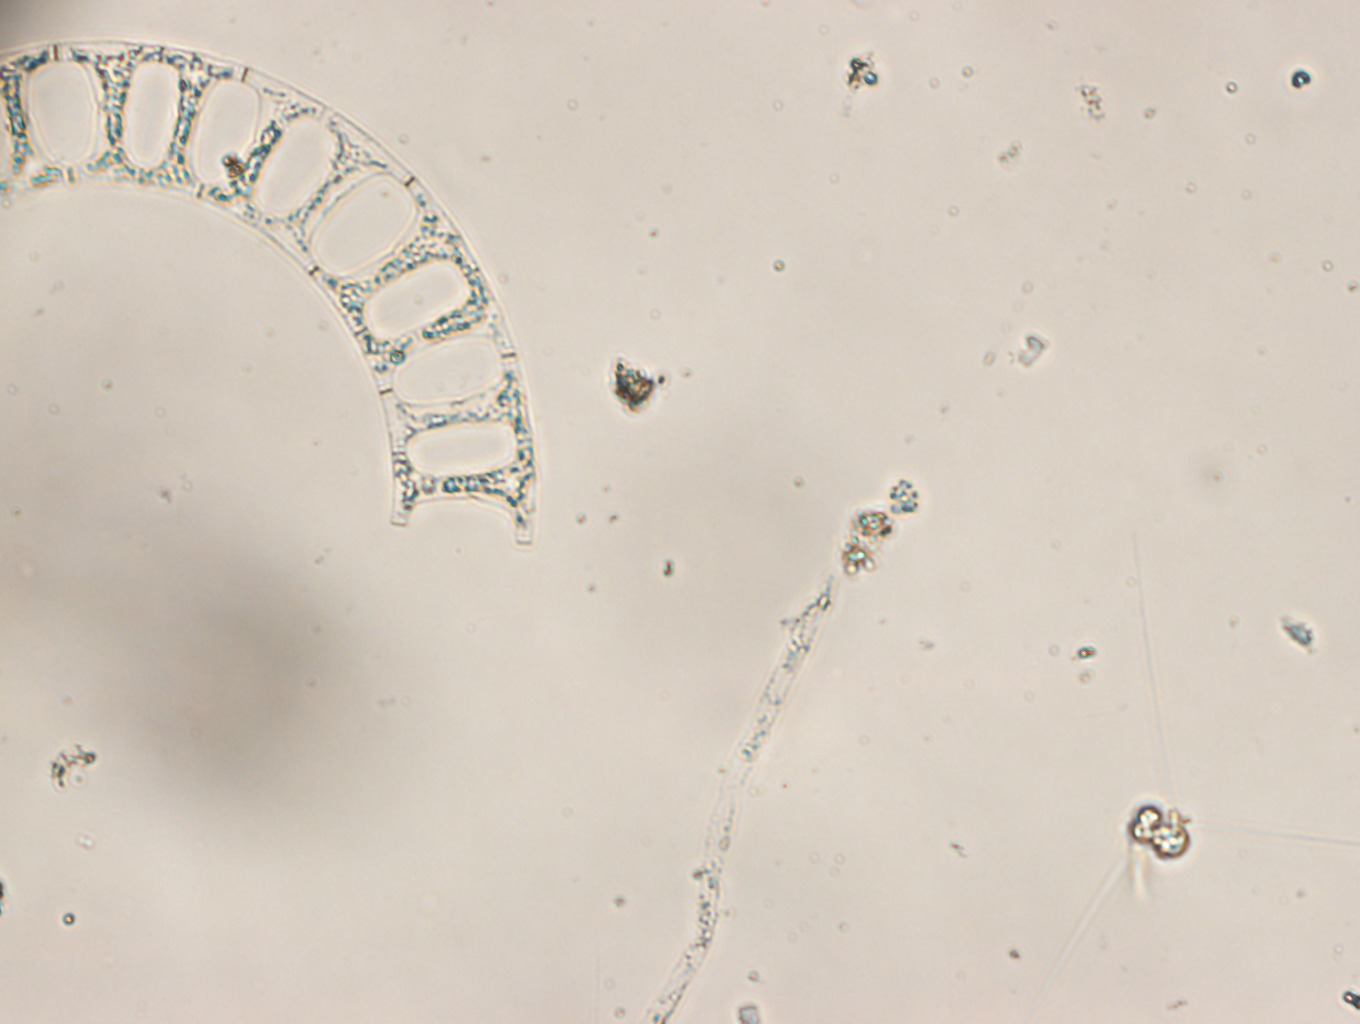eucampia: (1, 39, 539, 543)
rhizosolenia: (642, 580, 835, 1024)
